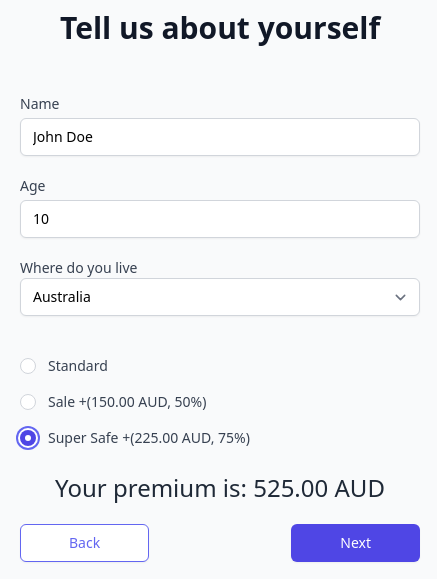
Test case: Start Page Spec › Summary Page Spec › Visit summary page with 525.00 AUD › Should get the correct summary
Click the button "Next": [356, 543] box [291, 524, 420, 562]
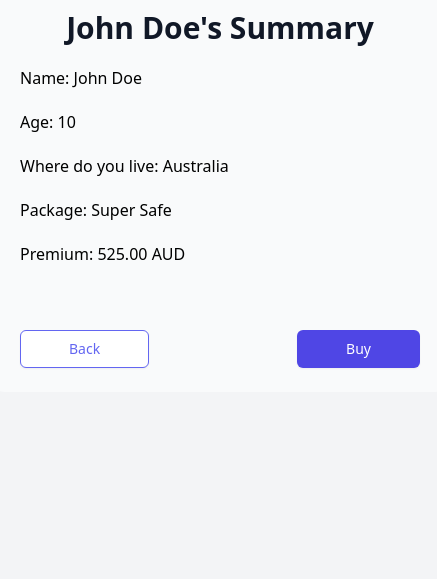
Check: the text with id "name" shows "John Doe", box [20, 67, 142, 89]
Check: the text with id "age" shows "10", box [20, 111, 76, 133]
Check: the text with id "country" shows "Australia", box [20, 155, 229, 177]
